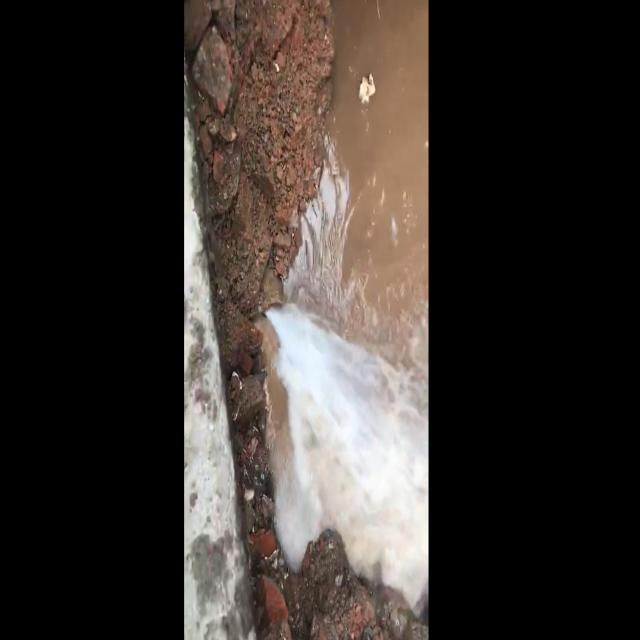leak: (268, 304, 428, 604)
